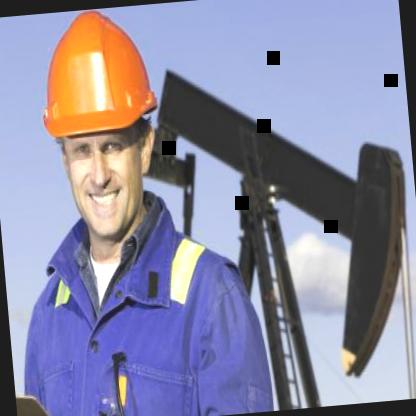helmet: (24, 4, 182, 264)
